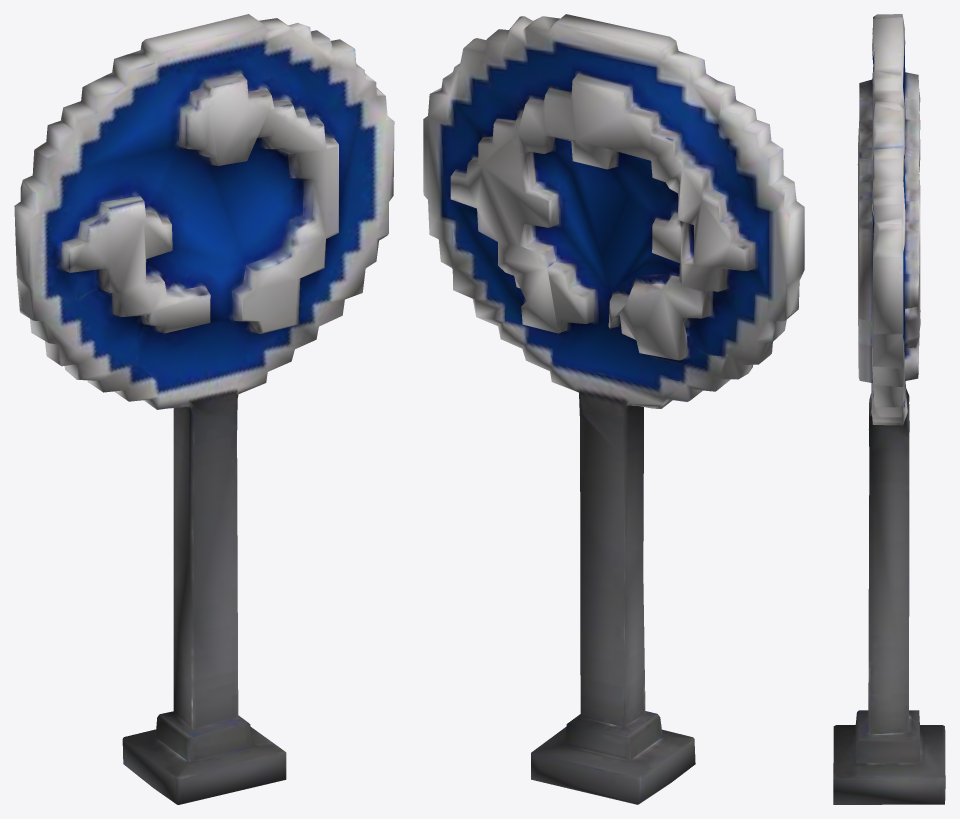
File: traffic-sign-roundabout.glb
3 renders of one model, left to right at view 1: azimuth 30°, elevation 25°; view 2: azimuth 150°, elevation 25°; view 3: azimuth 270°, elevation 25°, orthographic.
Visible parts, largest first — view 1: material; view 2: material; view 3: material.
Part boxes in pixels (x1,y1,x2,y2): material: [14, 14, 394, 804]; material: [423, 14, 804, 804]; material: [833, 14, 945, 804].
Size of the model in its own units: 0.6088 by 1.18 by 0.162.
1 material, 1 textured.
